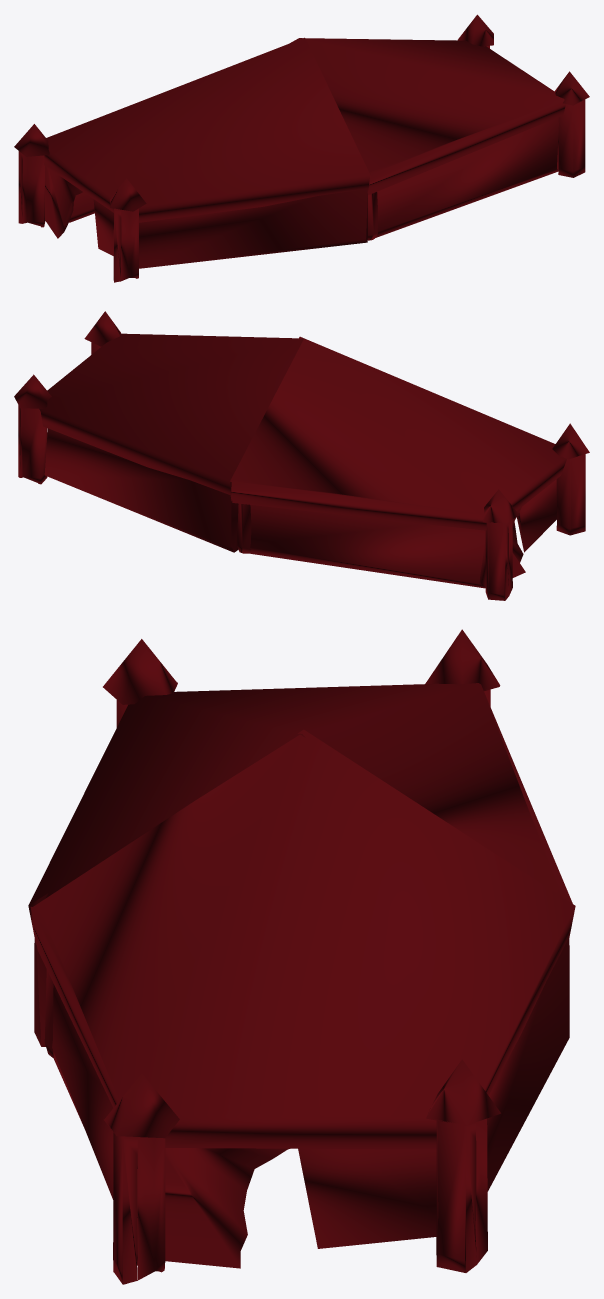
File: Tent-Main.fbx
The picture shows the model from 3 angles, top to bottom: view 1: azimuth 30°, elevation 25°; view 2: azimuth 150°, elevation 25°; view 3: azimuth 270°, elevation 25°; orthographic projection. The views are drawn at different scales.
Visible parts, largest first — view 1: TentWalls.001; view 2: TentWalls.001; view 3: TentWalls.001.
Part boxes in pixels (bbox=[...]): TentWalls.001: bbox=[14, 14, 589, 282]; TentWalls.001: bbox=[14, 311, 589, 600]; TentWalls.001: bbox=[28, 629, 575, 1284].
Bounding box in the file's own units: 8304 × 4072 × 2635.
